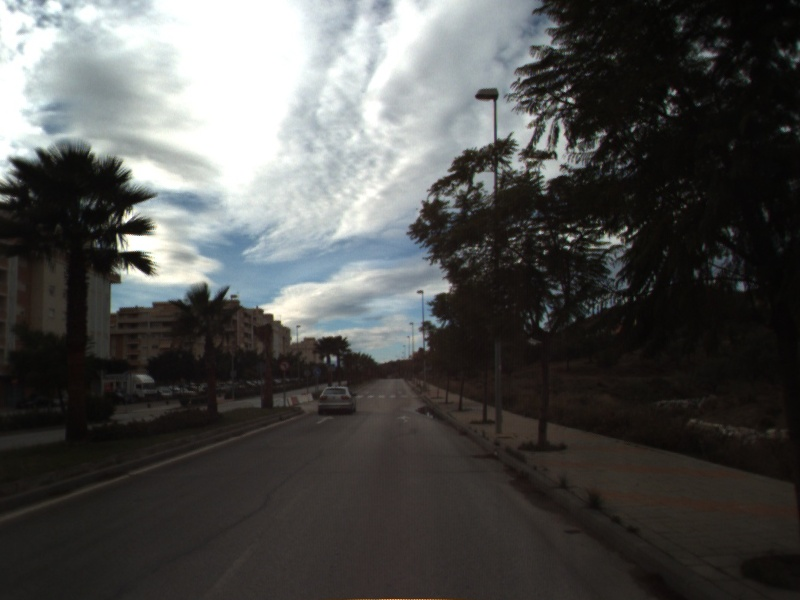STRAIGHT: (314, 414, 337, 426)
